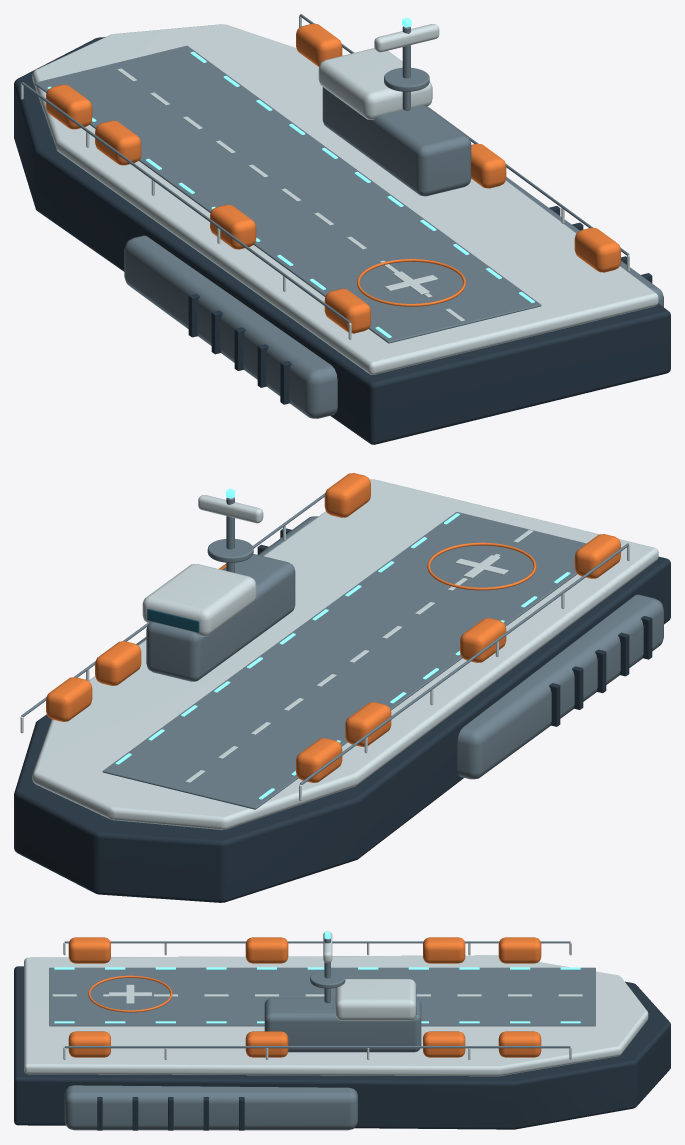
The model's file is EvacCarrier.fbx.
The picture shows the model from 3 angles, top to bottom: view 1: azimuth 30°, elevation 25°; view 2: azimuth 150°, elevation 25°; view 3: azimuth 270°, elevation 25°; orthographic projection. The views are drawn at different scales.
Visible parts, largest first — view 1: Recessed runway.001, Beveled flight deck.001, Twin-keel rescue hull.001, Outer engine pod.002, Island command base.001, Bridge ceramic cap.001, Rescue pod.012, Rescue pod.008, Rescue pod.010, Rescue pod.011, Rescue pod.009, Rescue pod.015 (+6 smaller); view 2: Recessed runway.001, Beveled flight deck.001, Twin-keel rescue hull.001, Outer engine pod.002, Island command base.001, Bridge ceramic cap.001, Rescue pod.012, Rescue pod.014, Rescue pod.015, Rescue pod.008, Rescue pod.011, Rescue pod.010 (+6 smaller); view 3: Beveled flight deck.001, Twin-keel rescue hull.001, Recessed runway.001, Outer engine pod.003, Island command base.001, Bridge ceramic cap.001, Deck guard rail.003, Rescue pod.011, Rescue pod.009, Rescue pod.010, Rescue pod.008, Rescue pod.015 (+6 smaller).
Boxes of the visible parts, bbox=[...] form: Recessed runway.001: bbox=[34, 45, 541, 343]; Beveled flight deck.001: bbox=[32, 24, 658, 374]; Twin-keel rescue hull.001: bbox=[14, 37, 670, 444]; Outer engine pod.002: bbox=[124, 235, 337, 418]; Island command base.001: bbox=[322, 87, 471, 196]; Bridge ceramic cap.001: bbox=[318, 48, 432, 119]; Rescue pod.012: bbox=[574, 227, 620, 272]; Rescue pod.008: bbox=[324, 288, 370, 333]; Rescue pod.010: bbox=[95, 120, 141, 165]; Rescue pod.011: bbox=[46, 84, 92, 129]; Rescue pod.009: bbox=[210, 204, 256, 249]; Rescue pod.015: bbox=[296, 23, 342, 66]; Recessed runway.001: bbox=[102, 512, 586, 809]; Beveled flight deck.001: bbox=[32, 479, 658, 829]; Twin-keel rescue hull.001: bbox=[14, 556, 670, 902]; Outer engine pod.002: bbox=[457, 594, 663, 779]; Island command base.001: bbox=[146, 554, 295, 681]; Bridge ceramic cap.001: bbox=[142, 564, 256, 636]; Rescue pod.012: bbox=[324, 473, 370, 517]; Rescue pod.014: bbox=[95, 641, 141, 685]; Rescue pod.015: bbox=[46, 677, 92, 721]; Rescue pod.008: bbox=[574, 534, 620, 578]; Rescue pod.011: bbox=[296, 738, 342, 782]; Rescue pod.010: bbox=[345, 702, 391, 746]; Beveled flight deck.001: bbox=[24, 955, 648, 1076]; Twin-keel rescue hull.001: bbox=[14, 966, 670, 1129]; Recessed runway.001: bbox=[49, 967, 595, 1026]; Outer engine pod.003: bbox=[64, 1085, 357, 1130]; Island command base.001: bbox=[264, 998, 421, 1052]; Bridge ceramic cap.001: bbox=[335, 979, 416, 1020]; Deck guard rail.003: bbox=[64, 1046, 570, 1048]; Rescue pod.011: bbox=[498, 937, 541, 963]; Rescue pod.009: bbox=[245, 937, 288, 963]; Rescue pod.010: bbox=[423, 937, 465, 963]; Rescue pod.008: bbox=[68, 937, 110, 963]; Rescue pod.015: bbox=[498, 1031, 541, 1057].
Bounding box in the file's own units: 649 × 372 × 1298.
